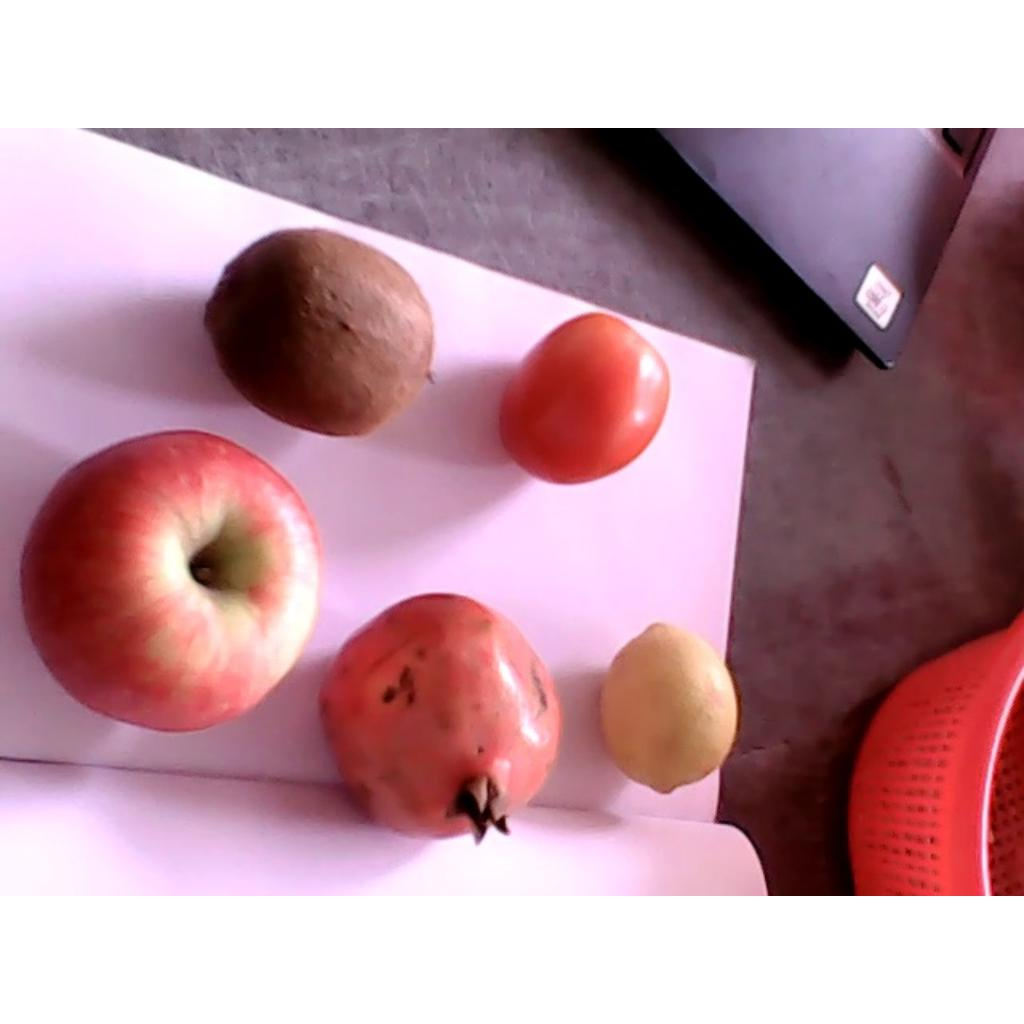apple: (19, 431, 325, 732)
kiwi: (203, 231, 434, 436)
lemon: (601, 622, 738, 794)
pomegranate: (318, 593, 562, 844)
tomato: (498, 312, 672, 483)
